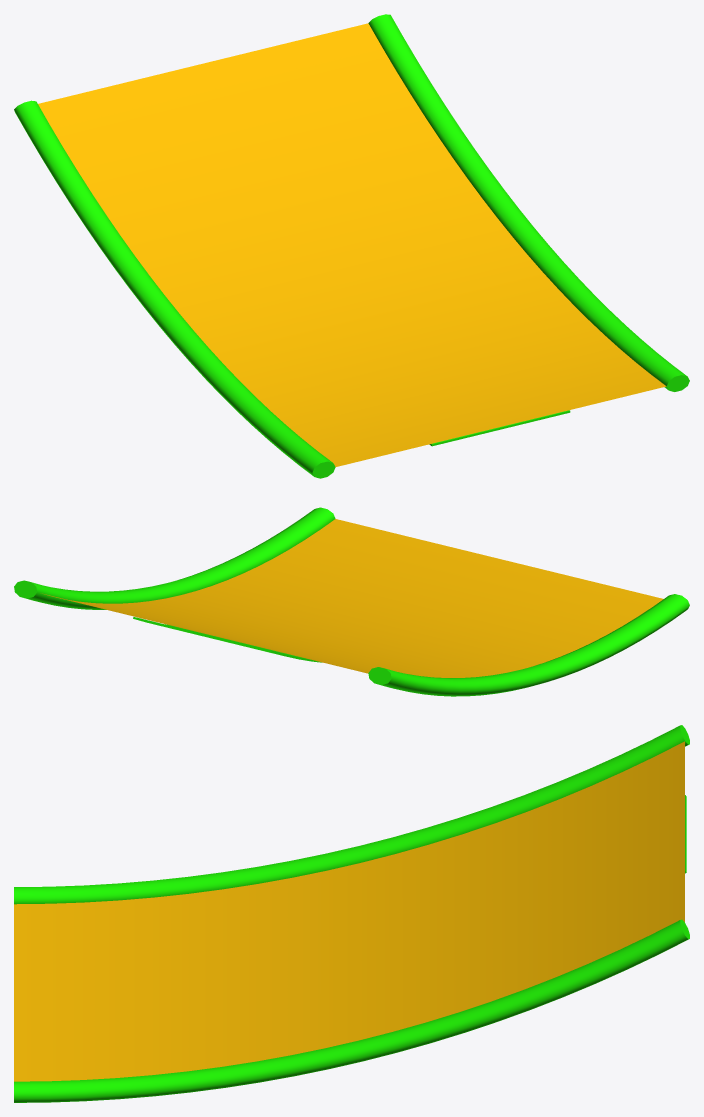
File: Ramp J 30.FBX
3 views of the same model, one above another, from view 1: azimuth 30°, elevation 25°; view 2: azimuth 150°, elevation 25°; view 3: azimuth 270°, elevation 25° (orthographic). The views are drawn at different scales.
Visible parts, largest first — view 1: Plane002; view 2: Plane002; view 3: Plane002.
Part boxes in pixels (x1,y1,x2,y2): Plane002: [14, 14, 689, 478]; Plane002: [14, 507, 689, 696]; Plane002: [14, 725, 689, 1102].
Bounding box in the file's own units: 1.9 × 0.7677 × 2.62.
